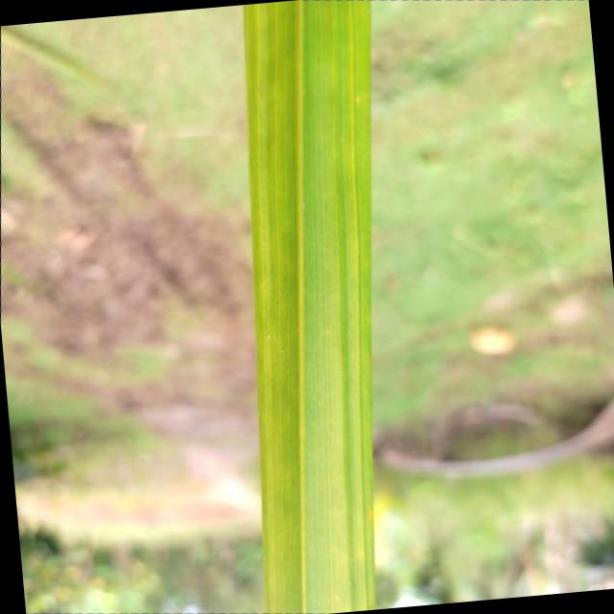nitrogen: (243, 0, 379, 614)
